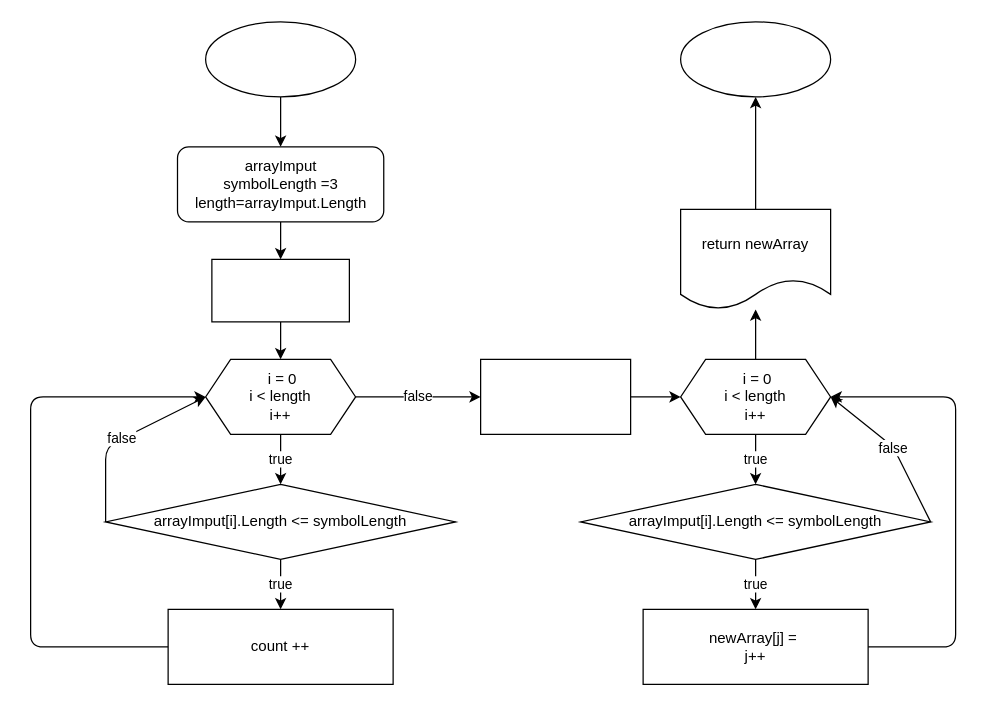
The diagram is 988 pixels wide and 706 high, and some of its shapes have lost their labels. Here are the shapes that lost their labels. From the top down, the box of each, then its label:
(204, 21, 356, 97): Start
(679, 21, 831, 97): End
(211, 258, 349, 322): count = 0
(479, 358, 631, 434): newArray(count) j = 0
